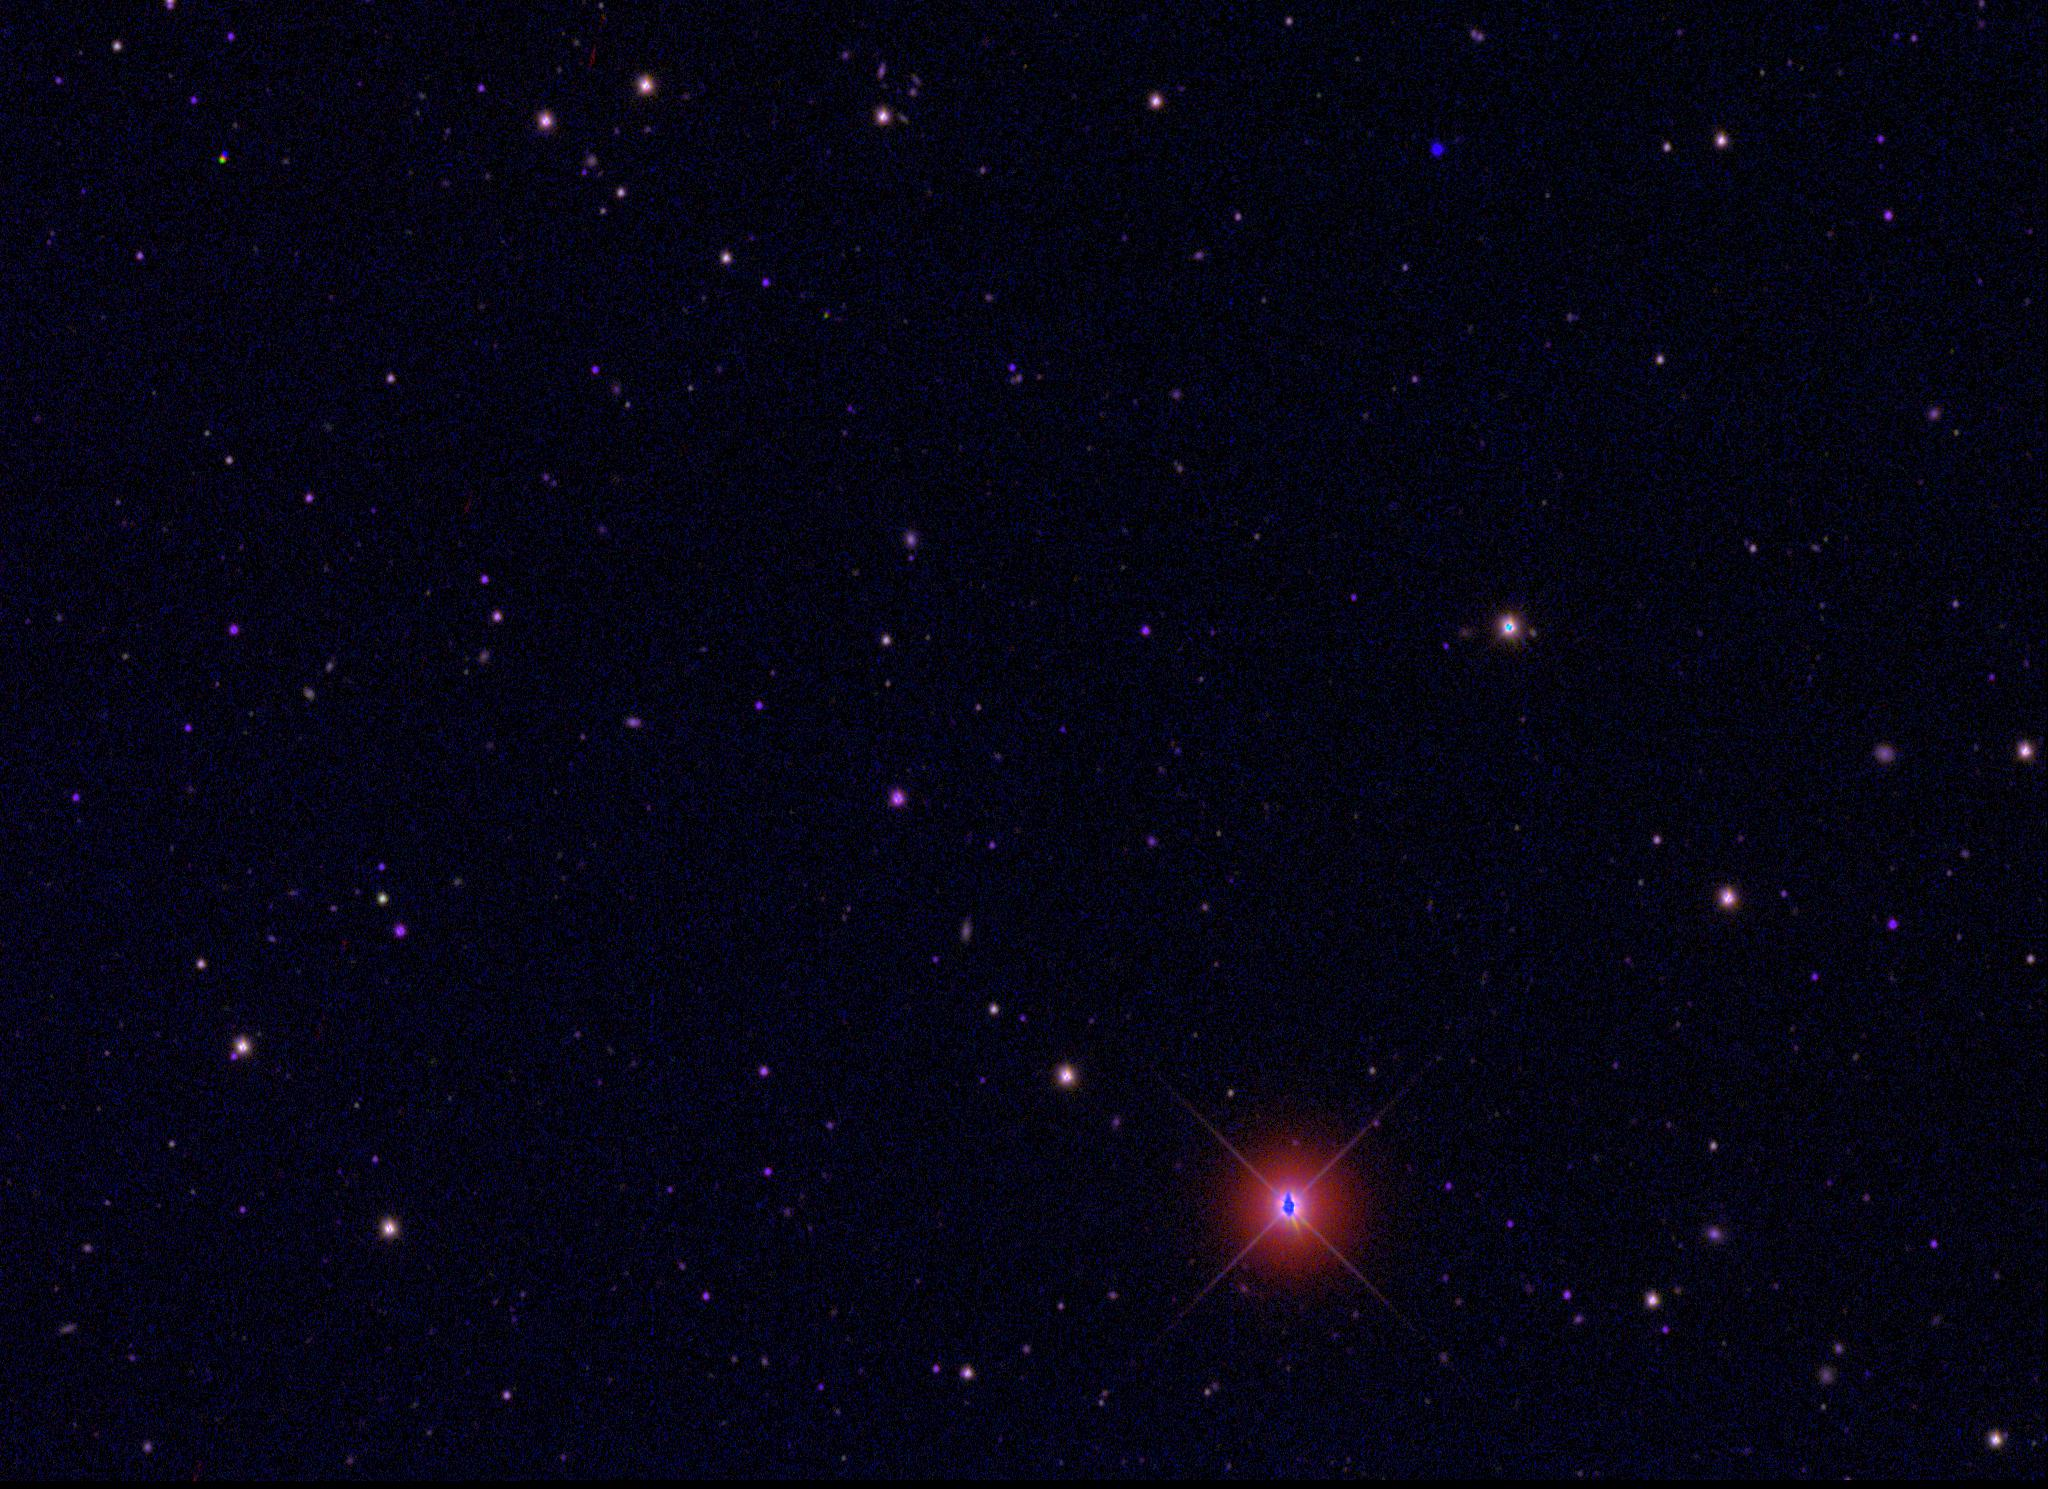L: (1429, 142, 1444, 156)
